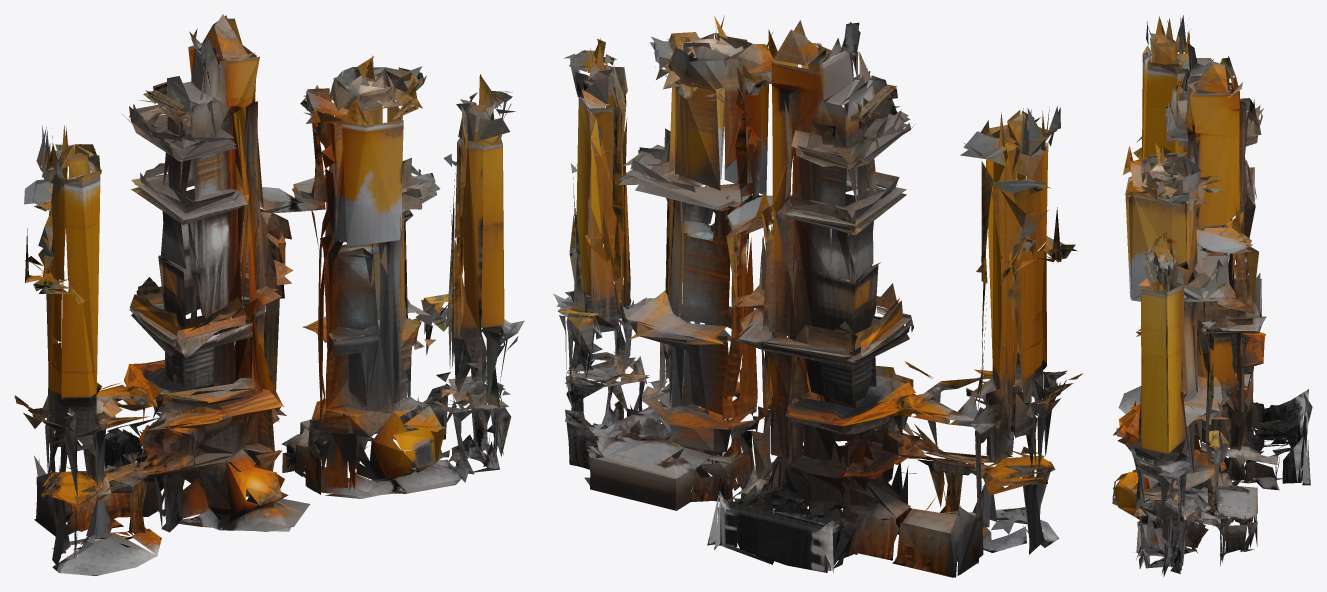
Rendered from oxygen_plant_t1.fbx.
3 views of the same model, side by side, from view 1: azimuth 30°, elevation 25°; view 2: azimuth 150°, elevation 25°; view 3: azimuth 270°, elevation 25° (orthographic). The views are drawn at different scales.
Visible parts, largest first — view 1: oxygen_plant_t1; view 2: oxygen_plant_t1; view 3: oxygen_plant_t1.
Part boxes in pixels (x1,y1,x2,y2): oxygen_plant_t1: (14,14,524,575); oxygen_plant_t1: (553,15,1082,577); oxygen_plant_t1: (1112,15,1312,576).
Bounding box in the file's own units: 3.73 × 3.47 × 1.49.
Materials: 1 (1 with a texture image).
